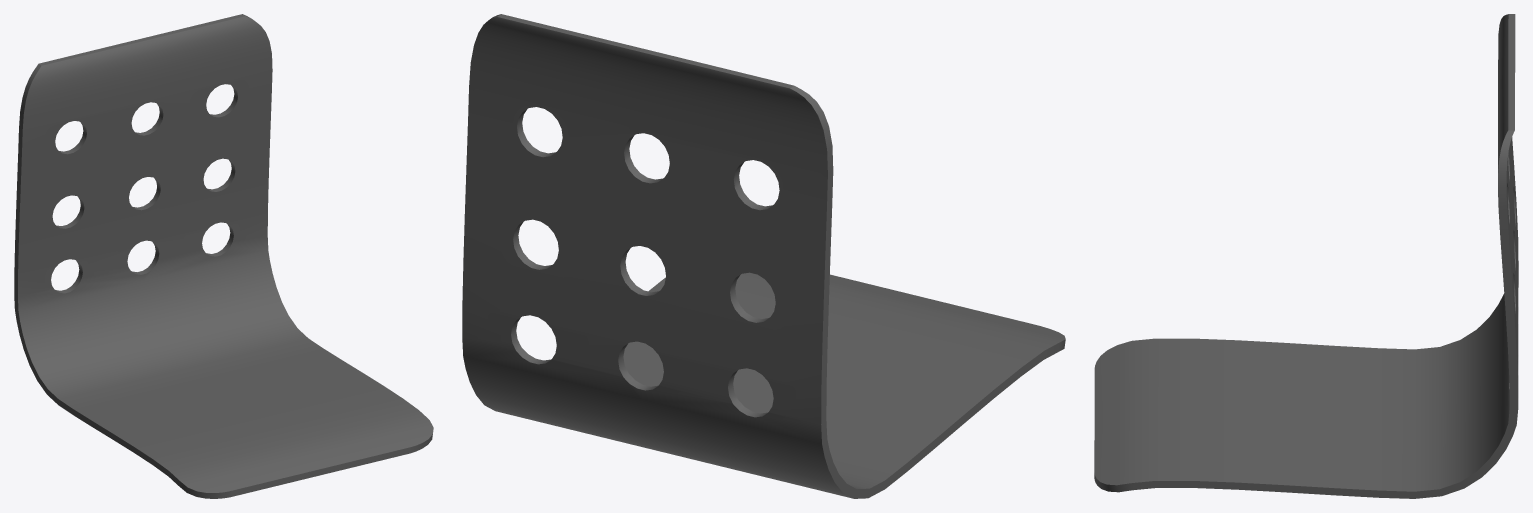
File: RoboTHOR_office_chair_jules_robothor_office_chair_jules_2.obj
The picture shows the model from 3 angles, left to right: view 1: azimuth 30°, elevation 25°; view 2: azimuth 150°, elevation 25°; view 3: azimuth 270°, elevation 25°; orthographic projection. The views are drawn at different scales.
Bounding box in the file's own units: 0.4225 × 0.4919 × 0.5315.
1 material, 1 textured.
